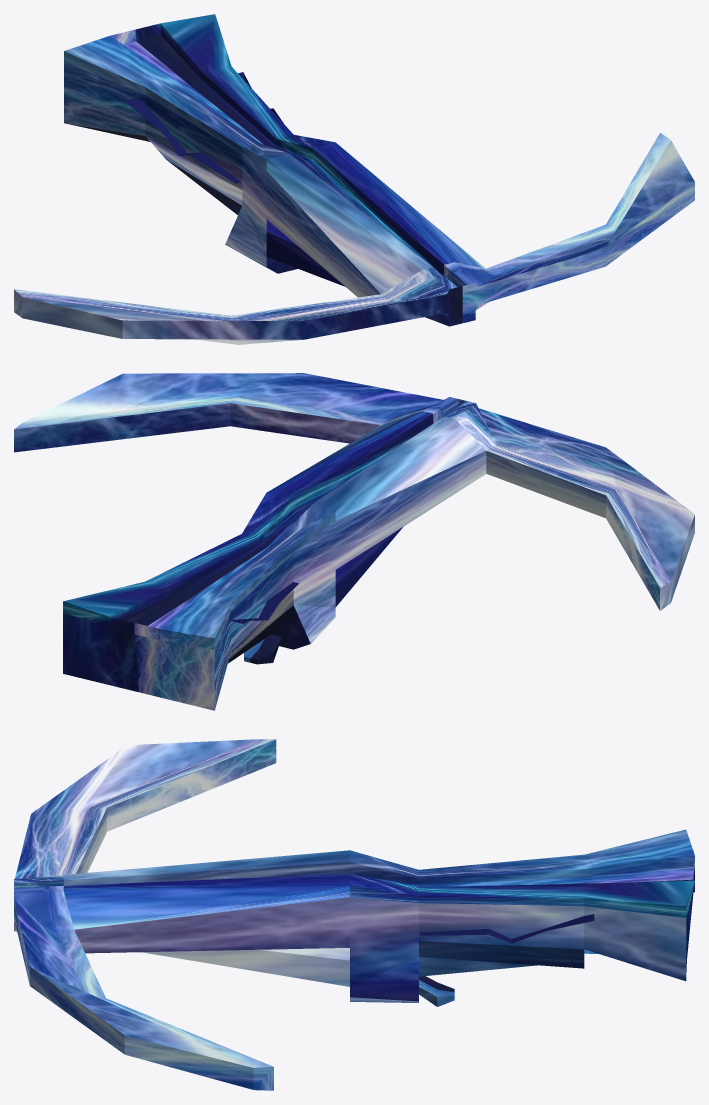
File: ElectroTex 1.fbx
The picture shows the model from 3 angles, top to bottom: view 1: azimuth 30°, elevation 25°; view 2: azimuth 150°, elevation 25°; view 3: azimuth 270°, elevation 25°; orthographic projection. The views are drawn at different scales.
Visible parts, largest first — view 1: Cubo; view 2: Cubo; view 3: Cubo.
Part boxes in pixels (left/top/right/bottom): Cubo: left=14, top=14, right=694, bottom=344; Cubo: left=14, top=373, right=694, bottom=710; Cubo: left=14, top=739, right=694, bottom=1090.
Bounding box in the file's own units: 1875 × 351 × 1642.
Materials: 1 (1 with a texture image).
